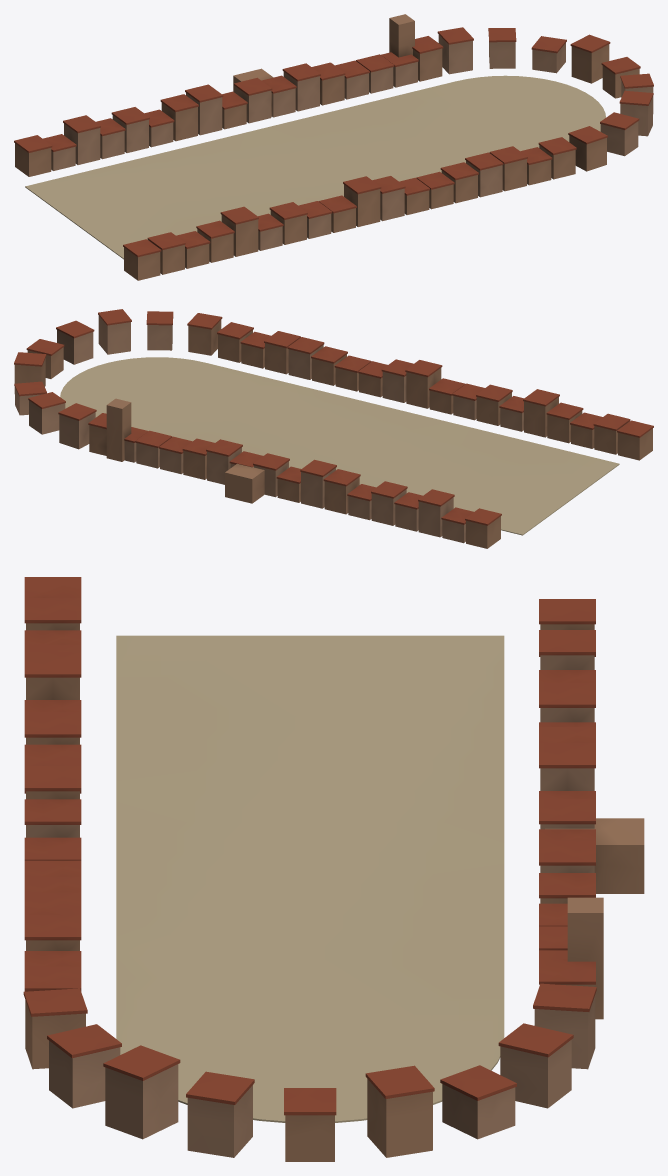
The model's file is stadium-medieval.glb.
3 views of the same model, one above another, from view 1: azimuth 30°, elevation 25°; view 2: azimuth 150°, elevation 25°; view 3: azimuth 270°, elevation 25° (orthographic). The views are drawn at different scales.
Parts seen in each view (by area): view 1: p1_houses, p0_piazza, p2_tower; view 2: p1_houses, p0_piazza, p2_tower; view 3: p0_piazza, p1_houses, p2_tower.
Part boxes in pixels (box(x1,y1,x2,y2)): p1_houses: box(14, 27, 653, 280); p0_piazza: box(25, 75, 605, 259); p2_tower: box(233, 14, 414, 116); p1_houses: box(14, 309, 653, 548); p0_piazza: box(60, 357, 619, 535); p2_tower: box(106, 398, 264, 503); p0_piazza: box(116, 635, 504, 1122); p1_houses: box(23, 577, 596, 1161); p2_tower: box(545, 818, 644, 1019).
Bounding box in the file's own units: 281 × 26 × 137.
